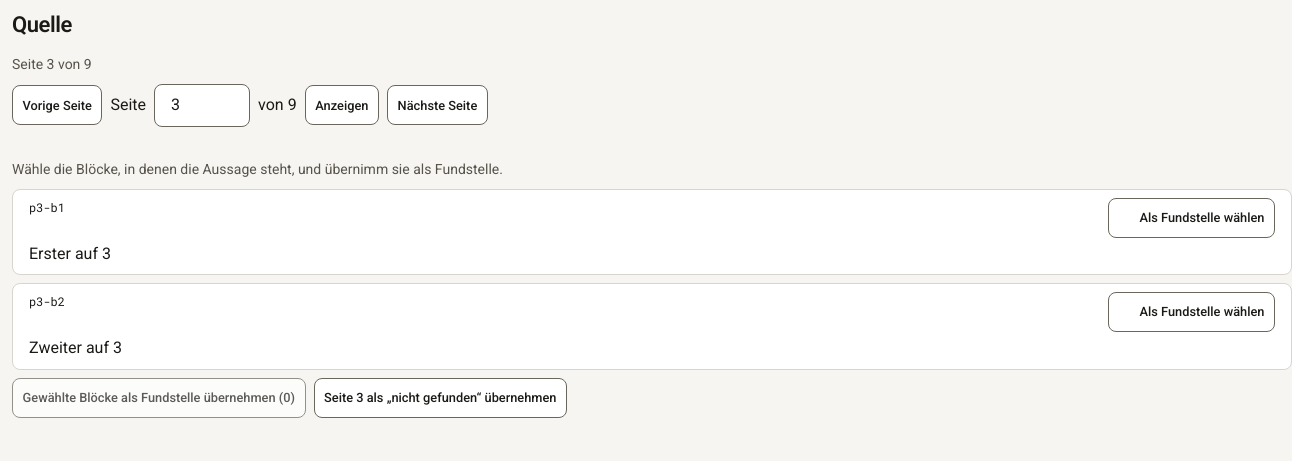
Scenario: the source a statement's anchor is chosen in › says an anchor the draft holds already, or one it takes no more
Click the button with test id "not-found".
click(440, 398)  # box left=314, top=378, right=567, bottom=418
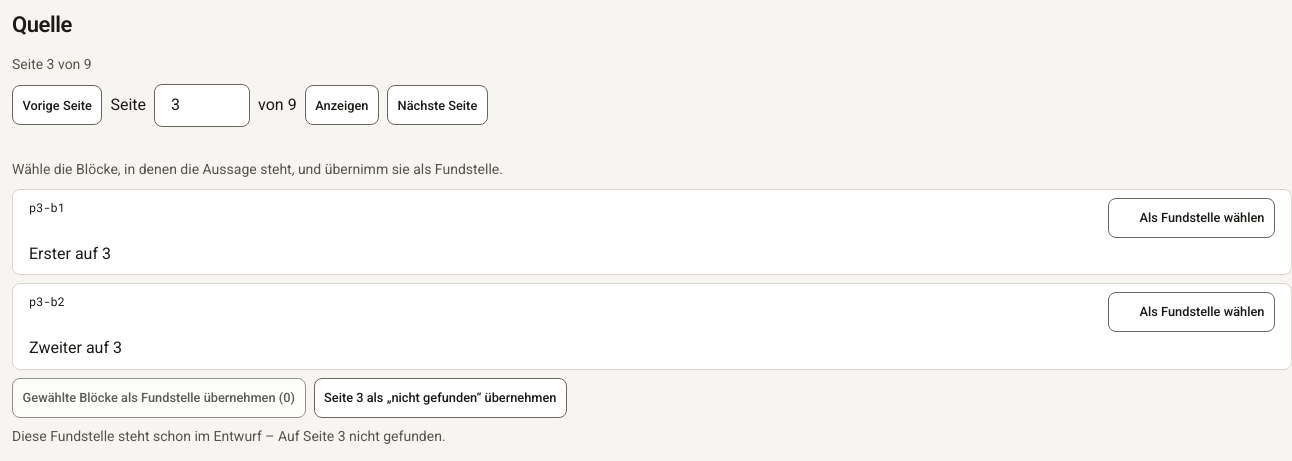
Click the button with test id "not-found".
click(440, 398)  # box left=314, top=378, right=567, bottom=418
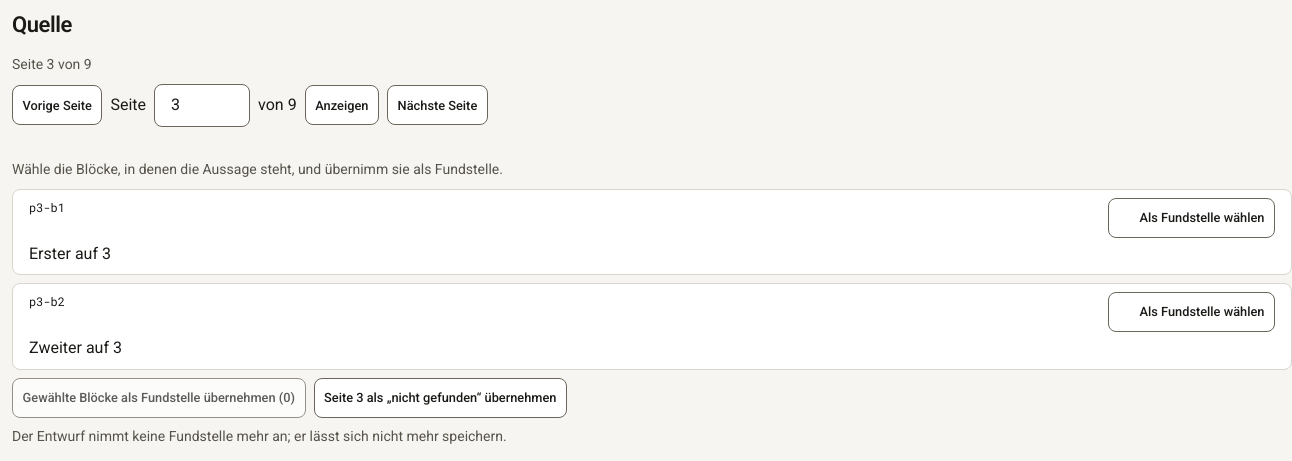
Result: the text with class "anchor-pick__said" reads "Der Entwurf nimmt keine Fundstelle mehr an; er lässt sich nicht mehr speichern." at left=12, top=428, right=507, bottom=444
